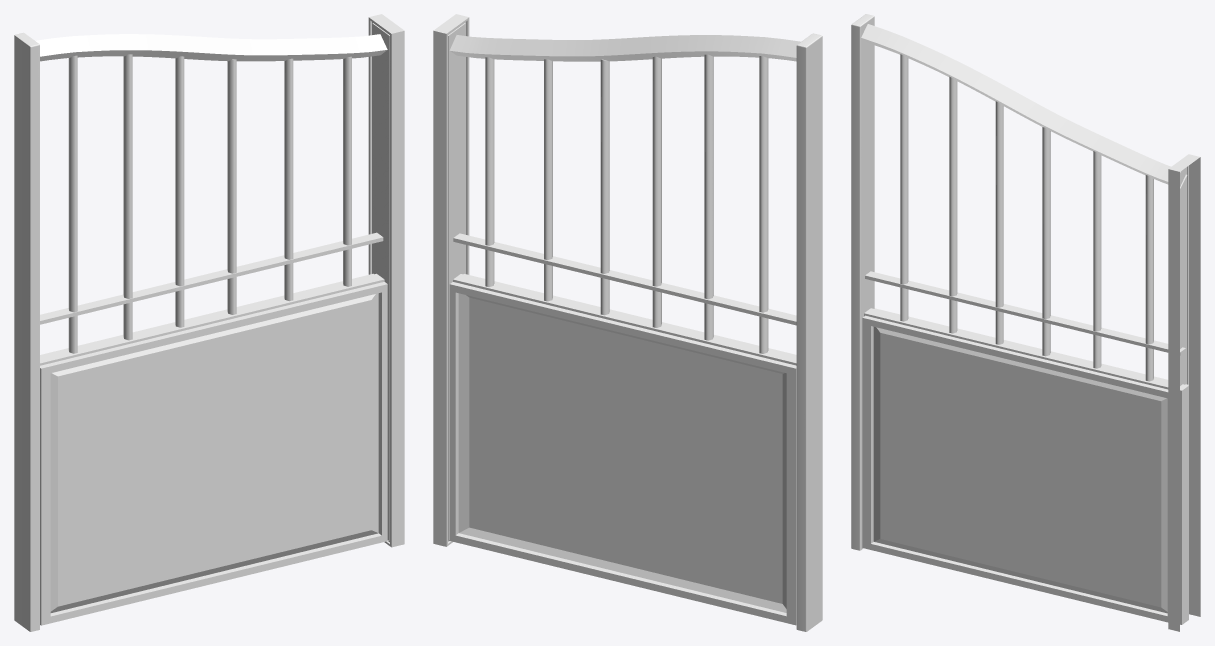
File: puertaderecha.obj
3 renders of one model, left to right at view 1: azimuth 30°, elevation 25°; view 2: azimuth 150°, elevation 25°; view 3: azimuth 330°, elevation 25°, orthographic. The views are drawn at different scales.
Parts seen in each view (by area): view 1: LeftPartGate_puertablanca; view 2: LeftPartGate_puertablanca; view 3: LeftPartGate_puertablanca.
Part boxes in pixels (x1=…): LeftPartGate_puertablanca: x1=14, y1=14, x2=404, y2=631; LeftPartGate_puertablanca: x1=433, y1=14, x2=822, y2=631; LeftPartGate_puertablanca: x1=851, y1=14, x2=1200, y2=631.
Bounding box in the file's own units: 4.81 × 7.26 × 0.5127.
